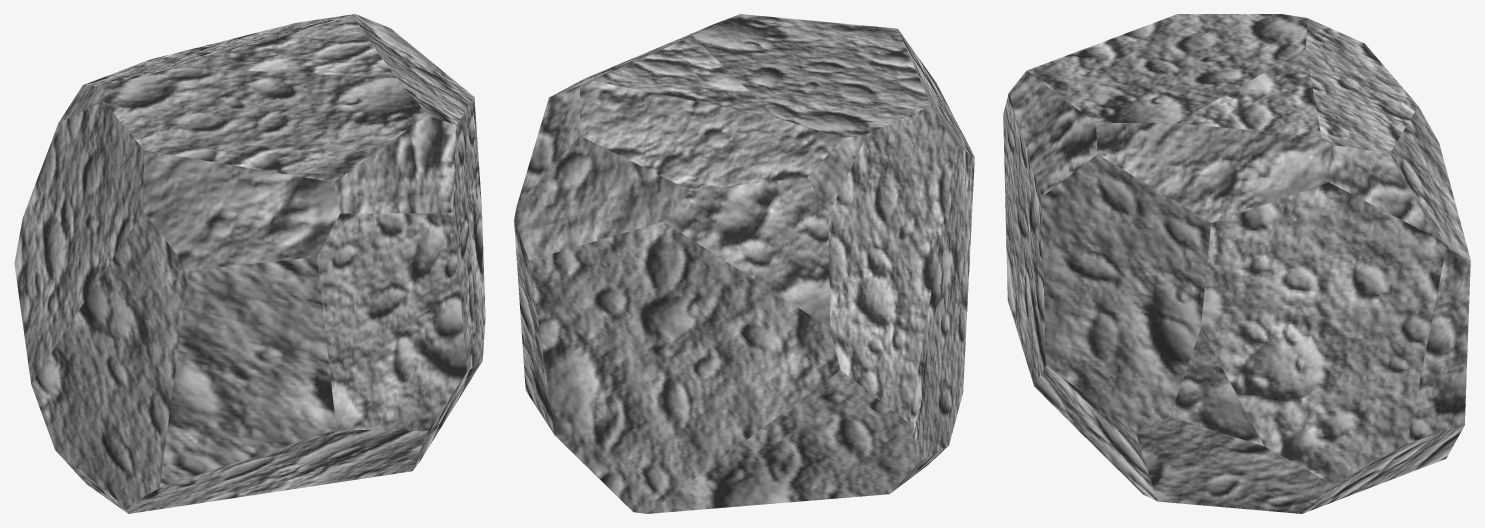
Rendered from asteroid1.glb.
The picture shows the model from 3 angles, left to right: view 1: azimuth 30°, elevation 25°; view 2: azimuth 150°, elevation 25°; view 3: azimuth 270°, elevation 25°; orthographic projection. The views are drawn at different scales.
Visible parts, largest first — view 1: Cube.004; view 2: Cube.004; view 3: Cube.004.
Part boxes in pixels (x1=…): Cube.004: x1=14, y1=14, x2=485, y2=513; Cube.004: x1=514, y1=14, x2=974, y2=513; Cube.004: x1=1003, y1=14, x2=1470, y2=513.
Bounding box in the file's own units: 2.17 × 2 × 2.28.
Materials: 1 (1 with a texture image).
